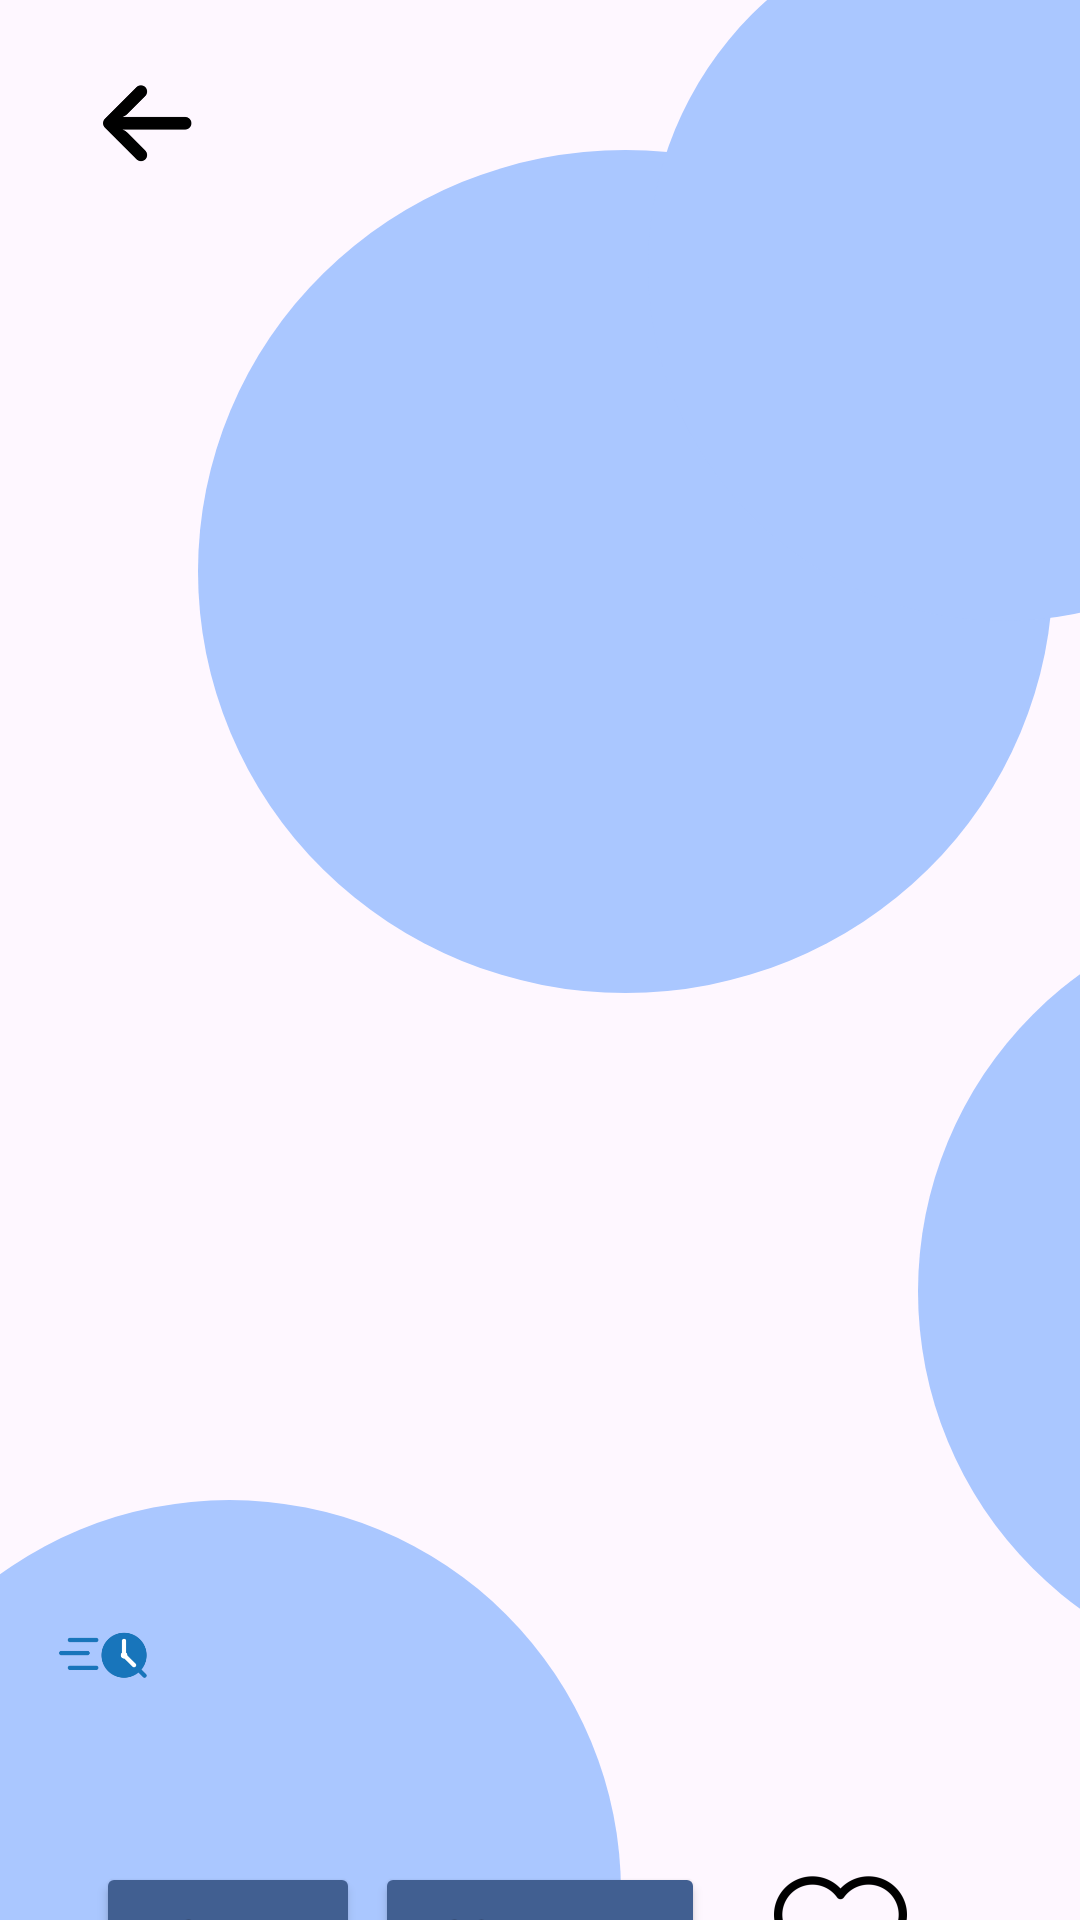

Icons on this 1080w x 1920h Android screen, each with the point to tap as point (x, y):
flecha: point (147, 123)
